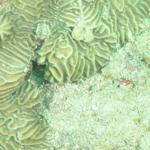alive: (1, 1, 149, 148)
